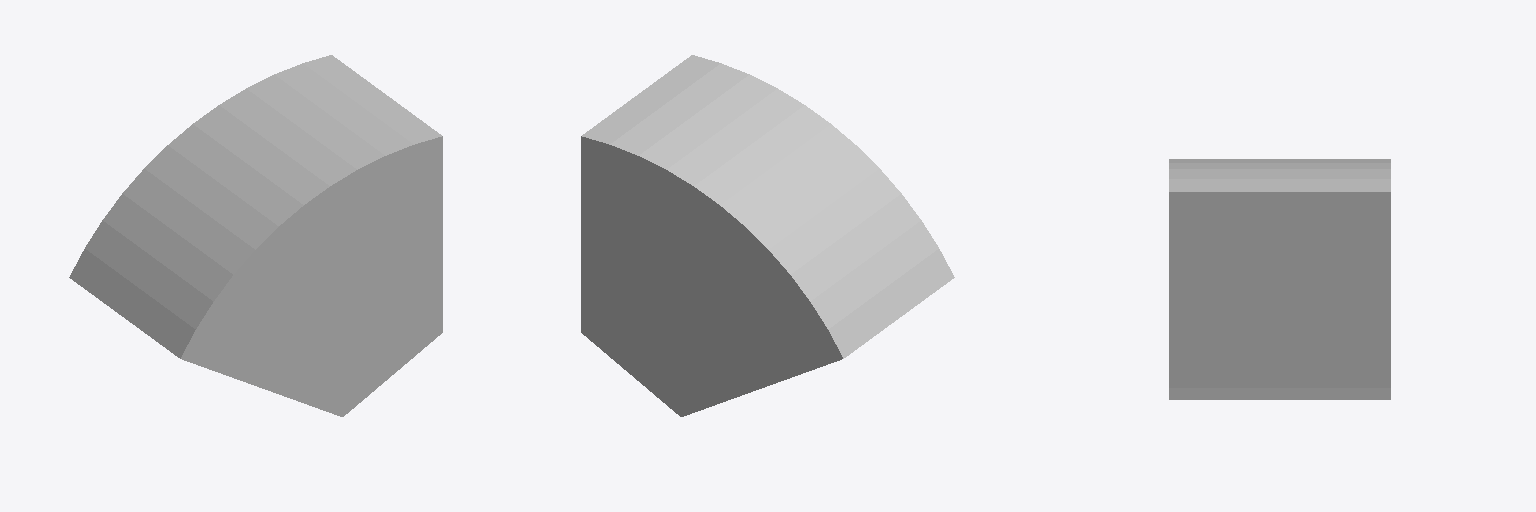
Rendered from round_hexagon_hole_5.obj.
3 views of the same model, side by side, from view 1: azimuth 30°, elevation 25°; view 2: azimuth 150°, elevation 25°; view 3: azimuth 270°, elevation 25° (orthographic).
Visible parts, largest first — view 1: Body128; view 2: Body128; view 3: Body128.
Part boxes in pixels (x1,y1,x2,y2): Body128: (69, 55, 442, 416); Body128: (581, 55, 954, 416); Body128: (1169, 159, 1390, 399).
Bounding box in the file's own units: 0.0546 × 0.051 × 0.04.